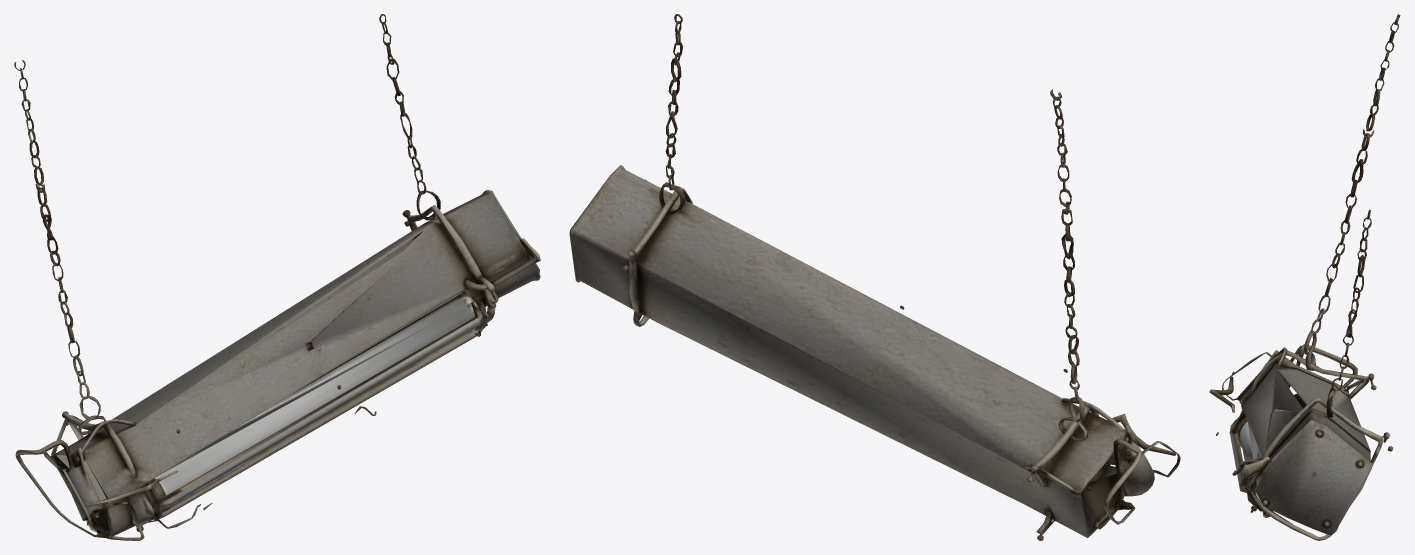
File: prop_fluorescent.glb
The picture shows the model from 3 angles, left to right: view 1: azimuth 30°, elevation 25°; view 2: azimuth 150°, elevation 25°; view 3: azimuth 270°, elevation 25°; orthographic projection. The views are drawn at different scales.
Parts seen in each view (by area): view 1: tripo_node_1d6e8289-3eab-4fb8-9368-277f723b8122; view 2: tripo_node_1d6e8289-3eab-4fb8-9368-277f723b8122; view 3: tripo_node_1d6e8289-3eab-4fb8-9368-277f723b8122.
Boxes of the visible parts, bbox=[...] form: tripo_node_1d6e8289-3eab-4fb8-9368-277f723b8122: bbox=[14, 14, 540, 540]; tripo_node_1d6e8289-3eab-4fb8-9368-277f723b8122: bbox=[569, 14, 1180, 540]; tripo_node_1d6e8289-3eab-4fb8-9368-277f723b8122: bbox=[1209, 14, 1400, 540].
Size of the model in its own units: 1.25 by 1.08 by 0.4319.
1 material, 1 textured.
